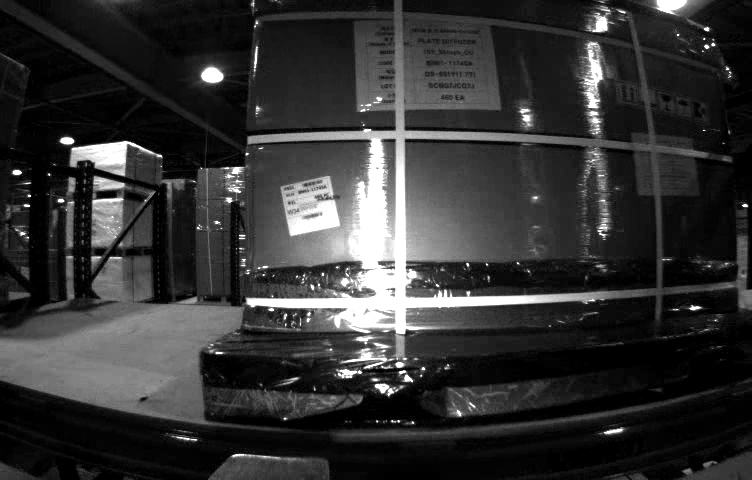True Barcode: (278, 173, 341, 236)
